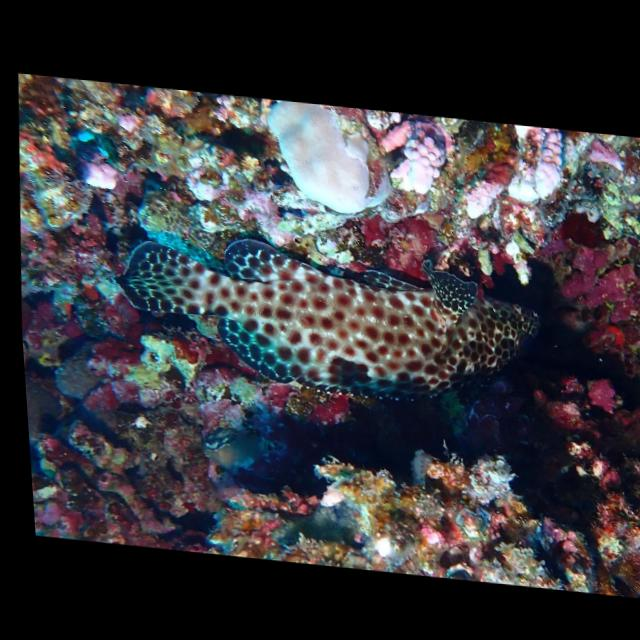Groupers: (105, 223, 556, 418)
